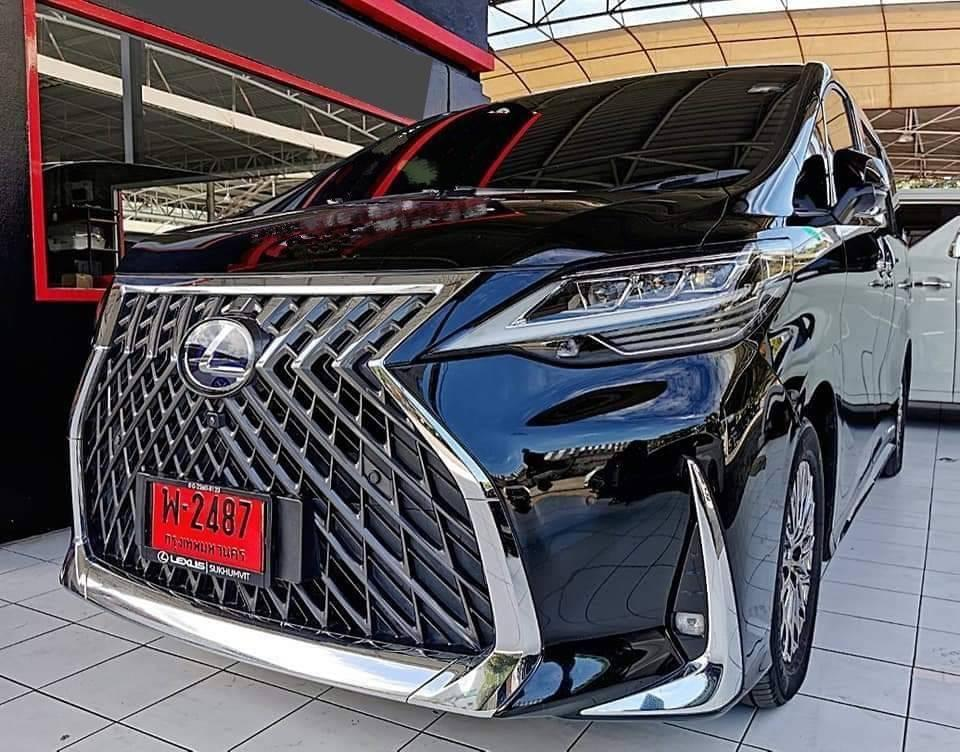license-plate: (138, 469, 280, 592)
